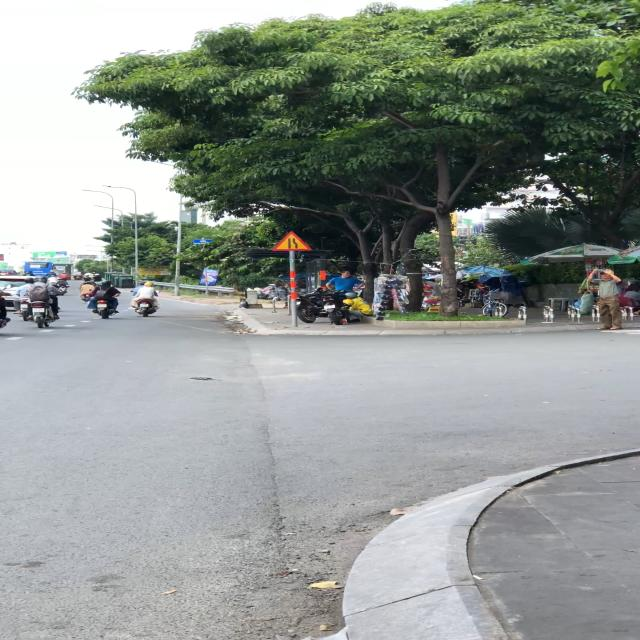Bien bao duong bi thu hep: (269, 230, 316, 252)
